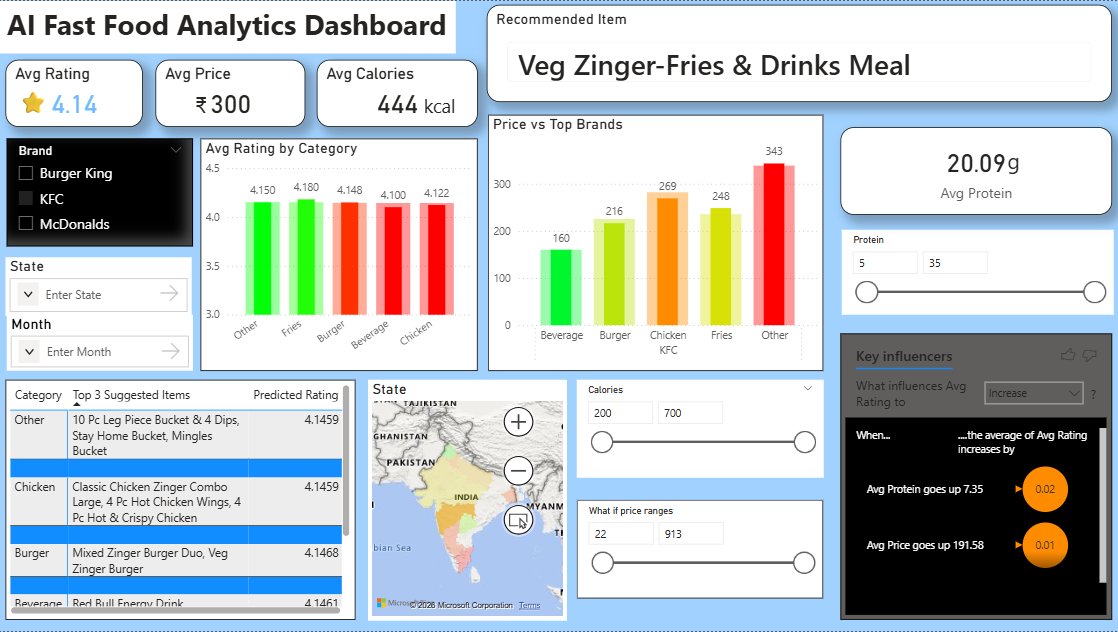

What the dashboard file says about the page in this screenshot:
{"tool":"powerbi","page":{"name":"Page 1","canvas":[1280,720],"ordinal":0},"visuals":[{"type":"card","title":"Avg Rating","fields":{"Values":["fastfood_dashboard_dataset.Avg Rating"]},"box":[8.6,67.1,157.1,77.1],"z":0},{"type":"card","title":"Avg Price","fields":{"Values":["fastfood_dashboard_dataset.Avg Price"]},"box":[180,67.1,171.4,77.1],"z":1000},{"type":"card","title":"Avg Calories","fields":{"Values":["fastfood_dashboard_dataset.Avg Calories"]},"box":[364.3,67.1,184.3,77.1],"z":2000},{"type":"columnChart","fields":{"Category":["fastfood_dashboard_dataset.Category"],"Y":["fastfood_dashboard_dataset.Avg Rating"]},"box":[231.4,157.1,317.1,265.7],"z":3000},{"type":"columnChart","title":"Price vs Top Brands","fields":{"Category":["fastfood_dashboard_dataset.Brand","fastfood_dashboard_dataset.Category"],"Y":["fastfood_dashboard_dataset.Avg Price"]},"box":[560,130,382.9,292.9],"z":4000},{"type":"textbox","box":[0,0,522.9,60],"z":5000},{"type":"slicer","fields":{"Values":["fastfood_dashboard_dataset.Brand"]},"box":[10,157.1,212.9,122.9],"z":6000},{"type":"textSlicer","fields":{"Values":["fastfood_dashboard_dataset.Month"]},"box":[10,358.6,212.9,64.3],"z":7000},{"type":"textSlicer","fields":{"Values":["fastfood_dashboard_dataset.State"]},"box":[8.6,292.9,212.9,67.1],"z":8000},{"type":"filledMap","fields":{"Category":["fastfood_dashboard_dataset.State"]},"box":[422.9,432.9,227.1,274.3],"z":9000},{"type":"keyDriversVisual","fields":{"ExplainBy":["fastfood_dashboard_dataset.Avg Price","fastfood_dashboard_dataset.Avg Calories","fastfood_dashboard_dataset.Category","fastfood_dashboard_dataset.Avg Protein","fastfood_dashboard_dataset.Brand","fastfood_dashboard_dataset.State","fastfood_dashboard_dataset.Month","fastfood_dashboard_dataset.Item"],"Target":["fastfood_dashboard_dataset.Avg Rating"]},"box":[962.9,380,310,327.1],"z":10000},{"type":"slicer","fields":{"Values":["fastfood_dashboard_dataset.Price"]},"box":[661.4,570,281.4,112.9],"z":11000},{"type":"cardVisual","title":"Recommended Item","fields":{"Data":["fastfood_dashboard_dataset.Top Recommended Product"]},"box":[558.6,4.3,714.3,111.4],"z":12000},{"type":"textbox","box":[481.4,100,87.1,57.1],"z":13000},{"type":"textbox","box":[180,94.3,62.9,70],"z":14000},{"type":"textbox","box":[18.6,94.3,118.6,50],"z":15000},{"type":"pivotTable","fields":{"Rows":["fastfood_dashboard_dataset.Category"],"Values":["ML_Predictions.Top 3 Suggested Items","ML_Predictions.Predicted Rating"]},"box":[8.6,432.9,400,274.3],"z":16000},{"type":"slicer","fields":{"Values":["fastfood_dashboard_dataset.Protein"]},"box":[964.3,261.4,310,97.1],"z":17000},{"type":"slicer","fields":{"Values":["fastfood_dashboard_dataset.Calories"]},"box":[661.4,432.9,281.4,111.4],"z":18000},{"type":"card","fields":{"Values":["fastfood_dashboard_dataset.Avg Protein"]},"box":[962.9,144.3,310,100],"z":19000},{"type":"textbox","box":[1148,162,90,61.4],"z":20000}]}

Visuals, with their boxes in screenshot pixels (x1, y1, x2, y2), scaled from the page's 1280x720 canvas onto the 1118x632 screenshot:
"Avg Rating" card: 8 59 145 127
"Avg Price" card: 157 59 307 127
"Avg Calories" card: 318 59 479 127
columnChart - fastfood_dashboard_dataset.Category x fastfood_dashboard_dataset.Avg Rating: 202 138 479 371
"Price vs Top Brands" columnChart: 489 114 824 371
textbox: 0 0 457 53
slicer - fastfood_dashboard_dataset.Brand: 9 138 195 246
textSlicer - fastfood_dashboard_dataset.Month: 9 315 195 371
textSlicer - fastfood_dashboard_dataset.State: 8 257 193 316
filledMap - fastfood_dashboard_dataset.State: 369 380 568 621
keyDriversVisual - fastfood_dashboard_dataset.Avg Price x fastfood_dashboard_dataset.Avg Calories: 841 334 1112 621
slicer - fastfood_dashboard_dataset.Price: 578 500 823 599
"Recommended Item" cardVisual: 488 4 1112 102
textbox: 420 88 497 138
textbox: 157 83 212 144
textbox: 16 83 120 127
pivotTable - fastfood_dashboard_dataset.Category x ML_Predictions.Top 3 Suggested Items: 8 380 357 621
slicer - fastfood_dashboard_dataset.Protein: 842 229 1113 315
slicer - fastfood_dashboard_dataset.Calories: 578 380 823 478
card - fastfood_dashboard_dataset.Avg Protein: 841 127 1112 214
textbox: 1003 142 1081 196
